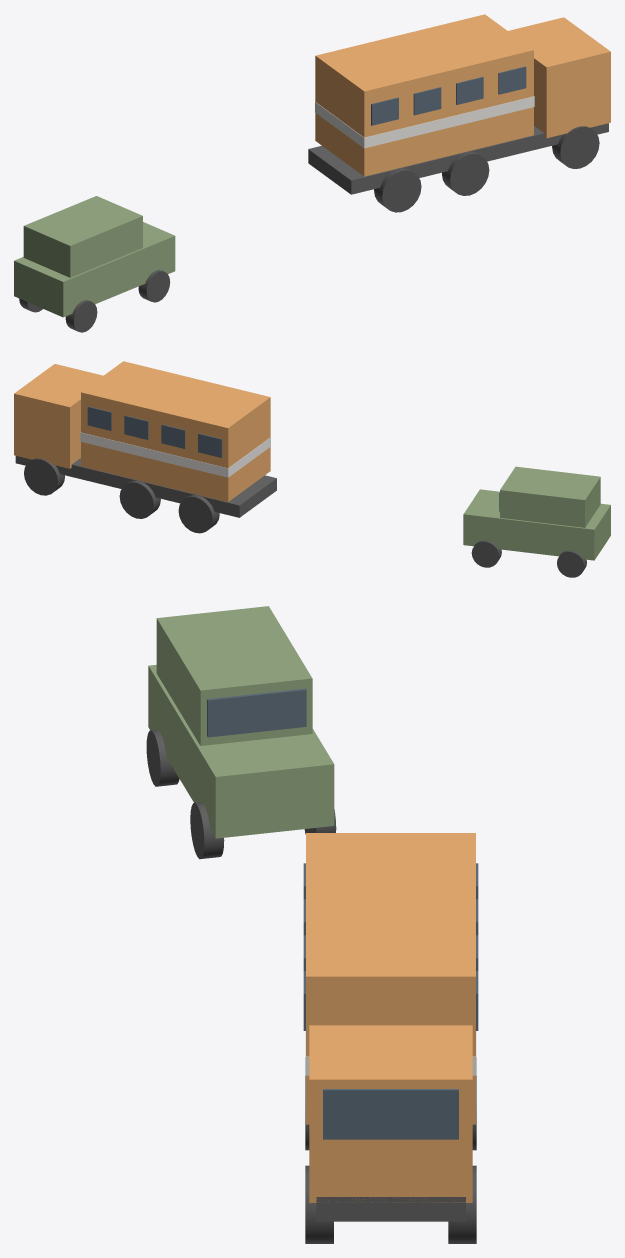
Rendered from vehicles.glb.
3 views of the same model, one above another, from view 1: azimuth 30°, elevation 25°; view 2: azimuth 150°, elevation 25°; view 3: azimuth 270°, elevation 25° (orthographic). The views are drawn at different scales.
Size of the model in its own units: 18.01 by 3.65 by 4.88.
